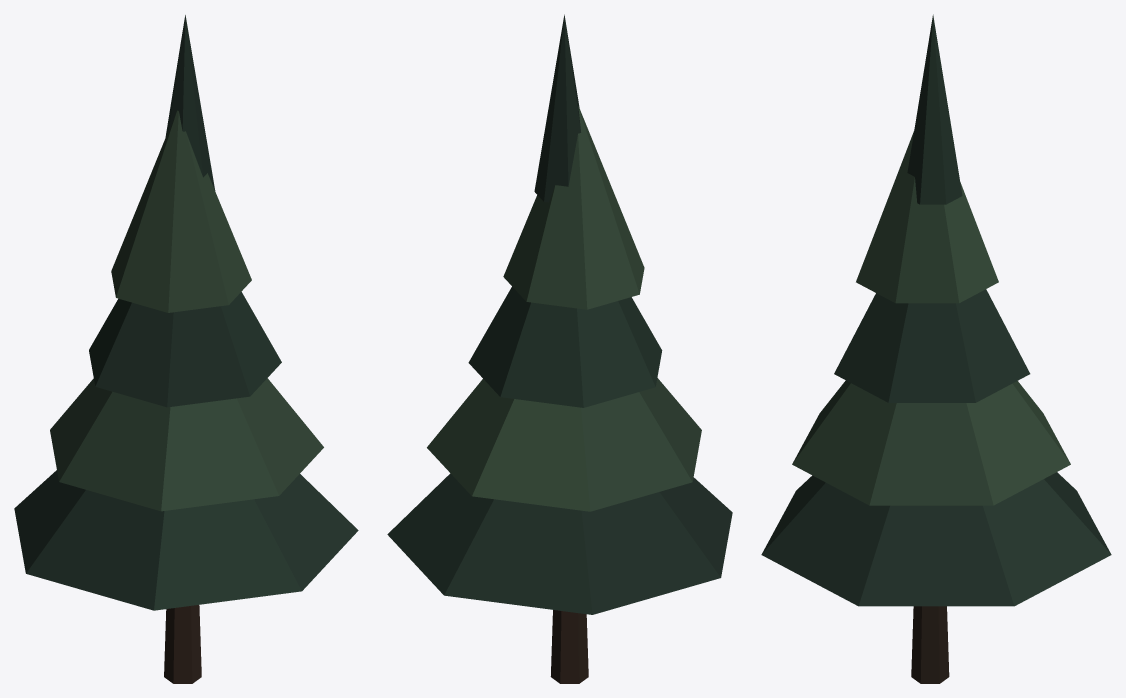
Rendered from pine_a.glb.
The picture shows the model from 3 angles, left to right: view 1: azimuth 30°, elevation 25°; view 2: azimuth 150°, elevation 25°; view 3: azimuth 270°, elevation 25°; orthographic projection.
Parts seen in each view (by area): view 1: pine_a; view 2: pine_a; view 3: pine_a.
Boxes of the visible parts, x1=… form: pine_a: x1=14, y1=15, x2=358, y2=683; pine_a: x1=387, y1=14, x2=732, y2=683; pine_a: x1=761, y1=14, x2=1111, y2=683.
Size of the model in its own units: 4.66 by 10.02 by 4.78.
Materials: 1 (1 with a texture image).
